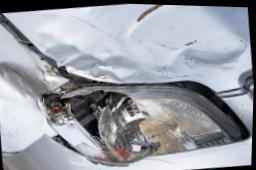Bonnet: (0, 3, 254, 133)
Fender: (0, 21, 68, 153)
Light: (44, 83, 251, 162)
